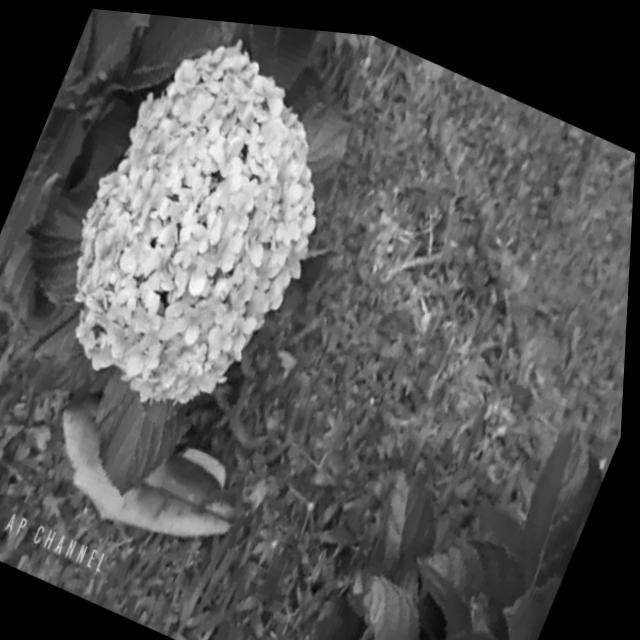Flower: (35, 10, 372, 452)
